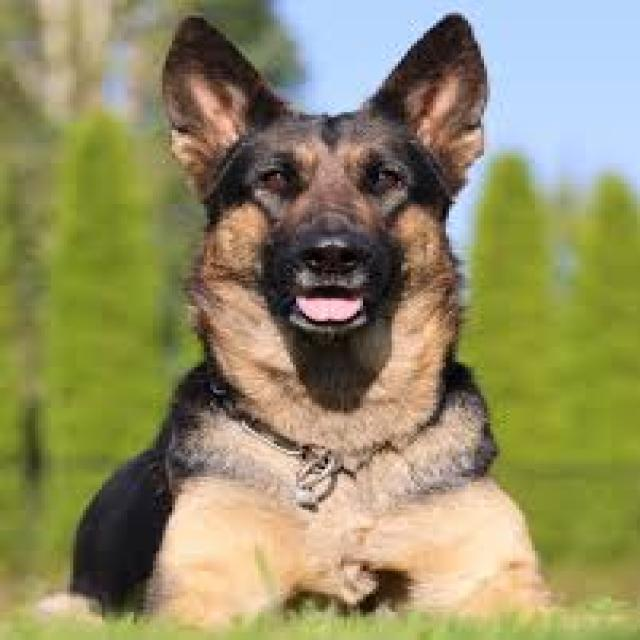GERMAN_SHEPHERD: (92, 8, 570, 632)
